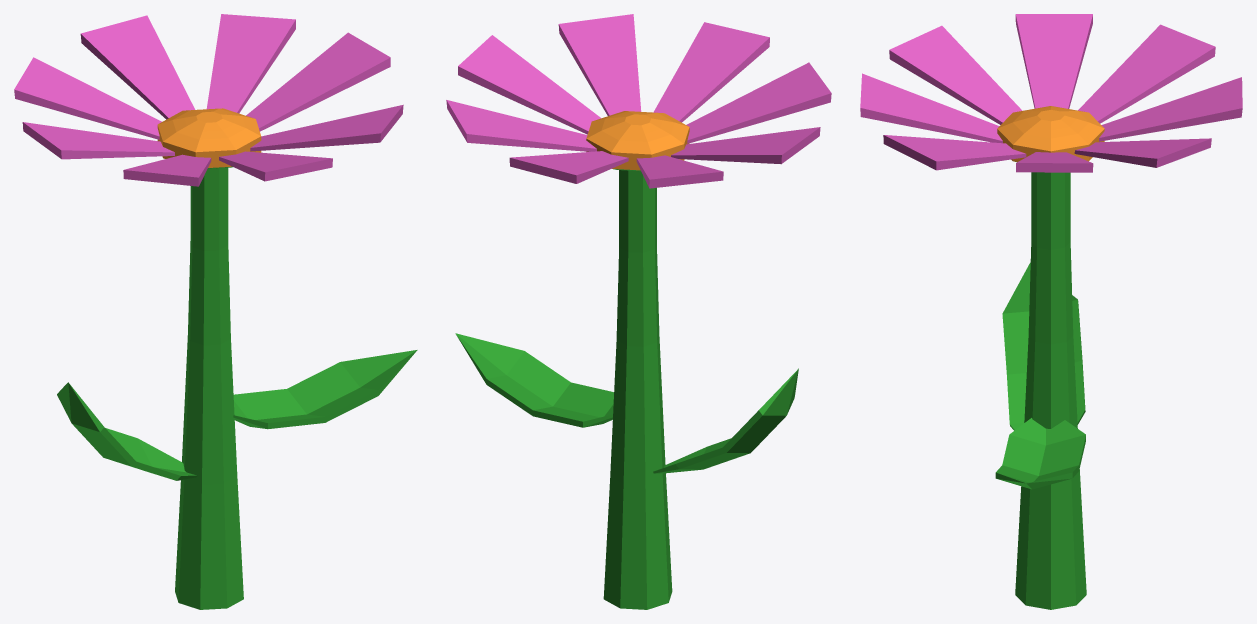
Rendered from flowerP.fbx.
3 renders of one model, left to right at view 1: azimuth 30°, elevation 25°; view 2: azimuth 150°, elevation 25°; view 3: azimuth 270°, elevation 25°, orthographic.
Visible parts, largest first — view 1: Cube.001; view 2: Cube.001; view 3: Cube.001.
Part boxes in pixels (left/top/right/bottom): Cube.001: left=14, top=14, right=417, bottom=609; Cube.001: left=446, top=14, right=831, bottom=609; Cube.001: left=860, top=14, right=1242, bottom=609.
Size of the model in its own units: 57.91 by 78.08 by 52.85.
